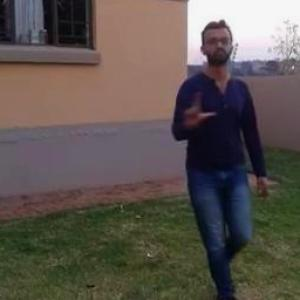land_hand: (178, 86, 217, 130)
